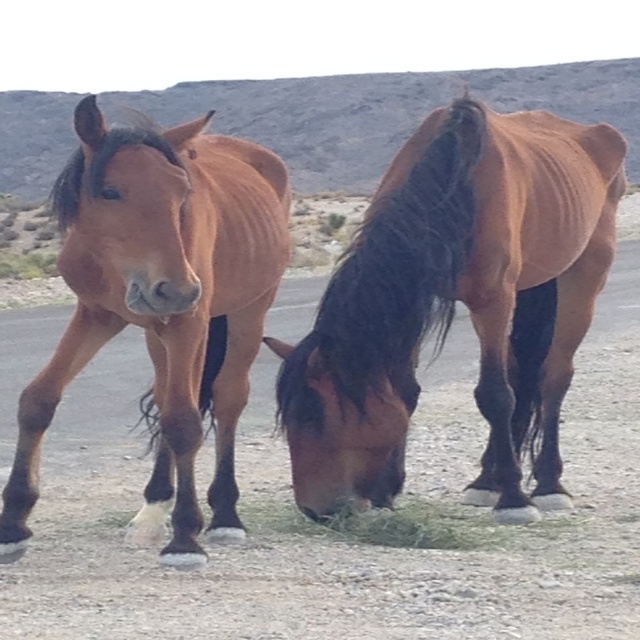Mule: (264, 87, 630, 524), (0, 92, 293, 570)
